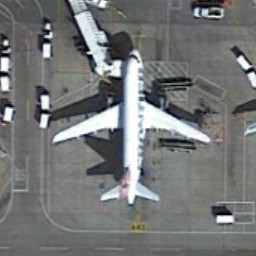Airplane: (41, 37, 220, 217)
